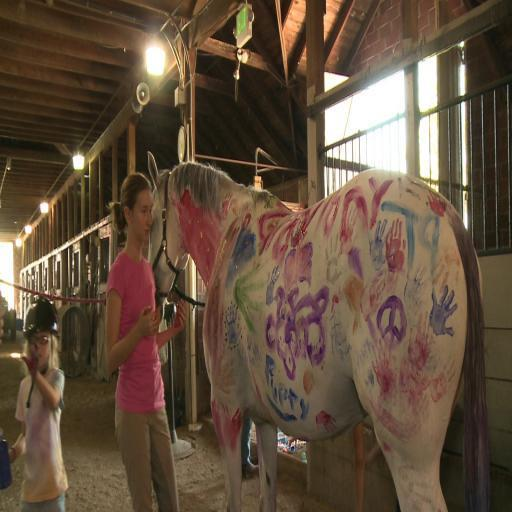horse: (147, 148, 493, 512)
